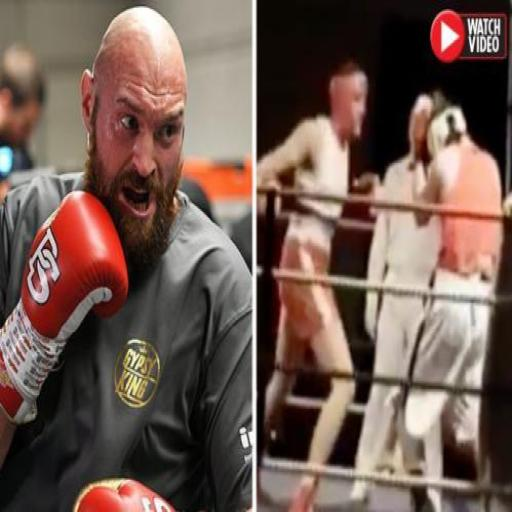boxing: (0, 3, 253, 510)
